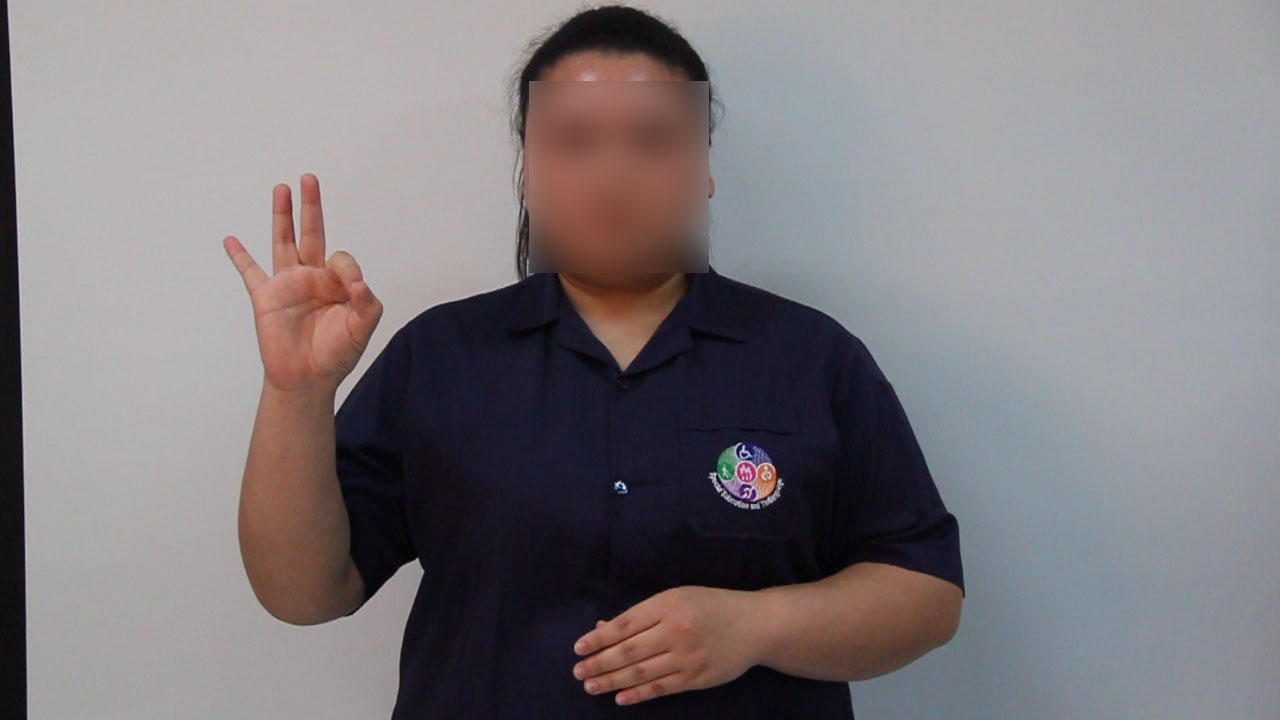for: (216, 164, 390, 403)
